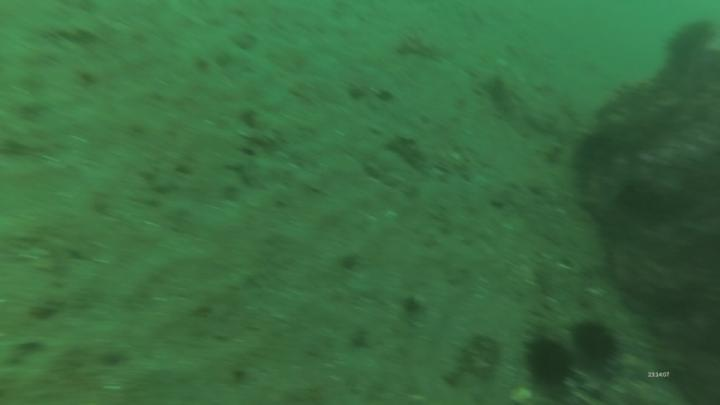echinus: (523, 334, 575, 394), (570, 315, 621, 376)
